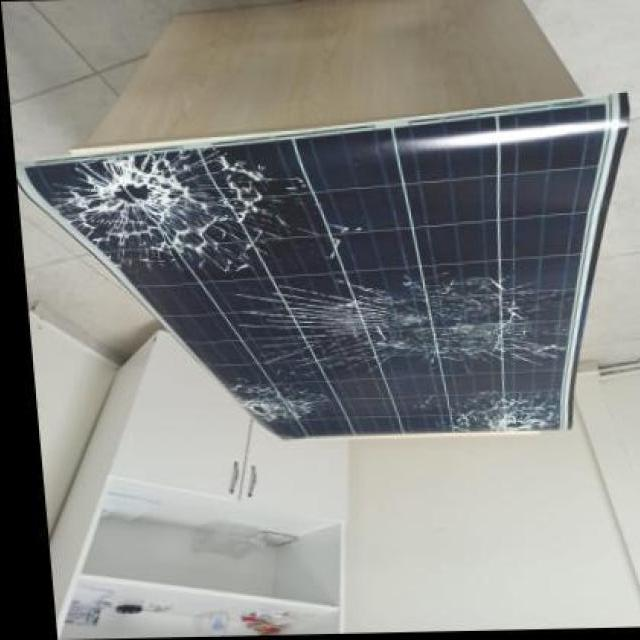cracked: (13, 113, 630, 448)
